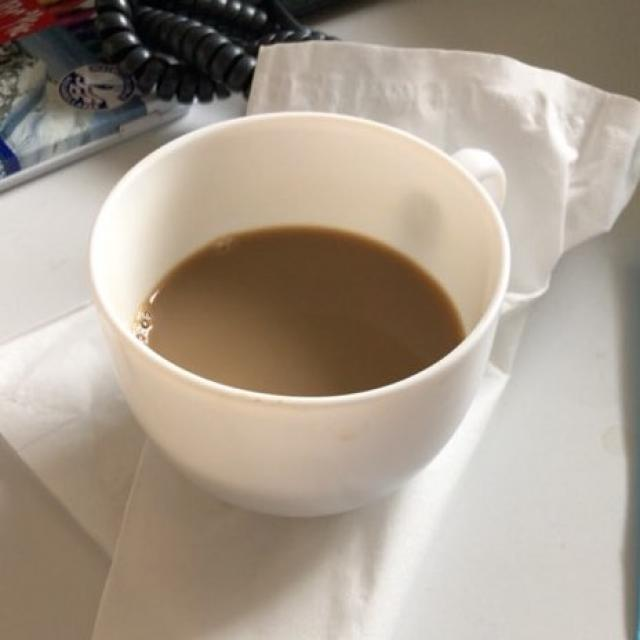coffee: (137, 221, 461, 395)
